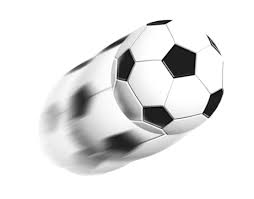football ball: (68, 39, 180, 158), (111, 22, 228, 134), (39, 60, 128, 173)
